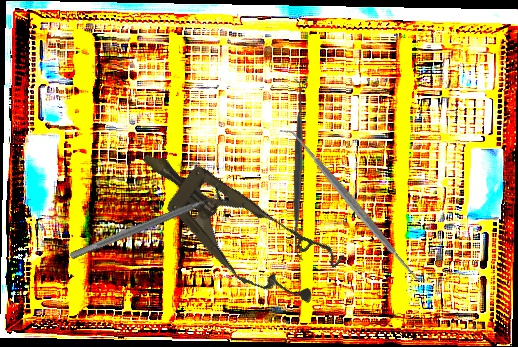Fixation Ring: (65, 178, 231, 269)
Spatula Surgical: (277, 117, 430, 293), (285, 78, 312, 262)
Speculum: (120, 123, 345, 322)
